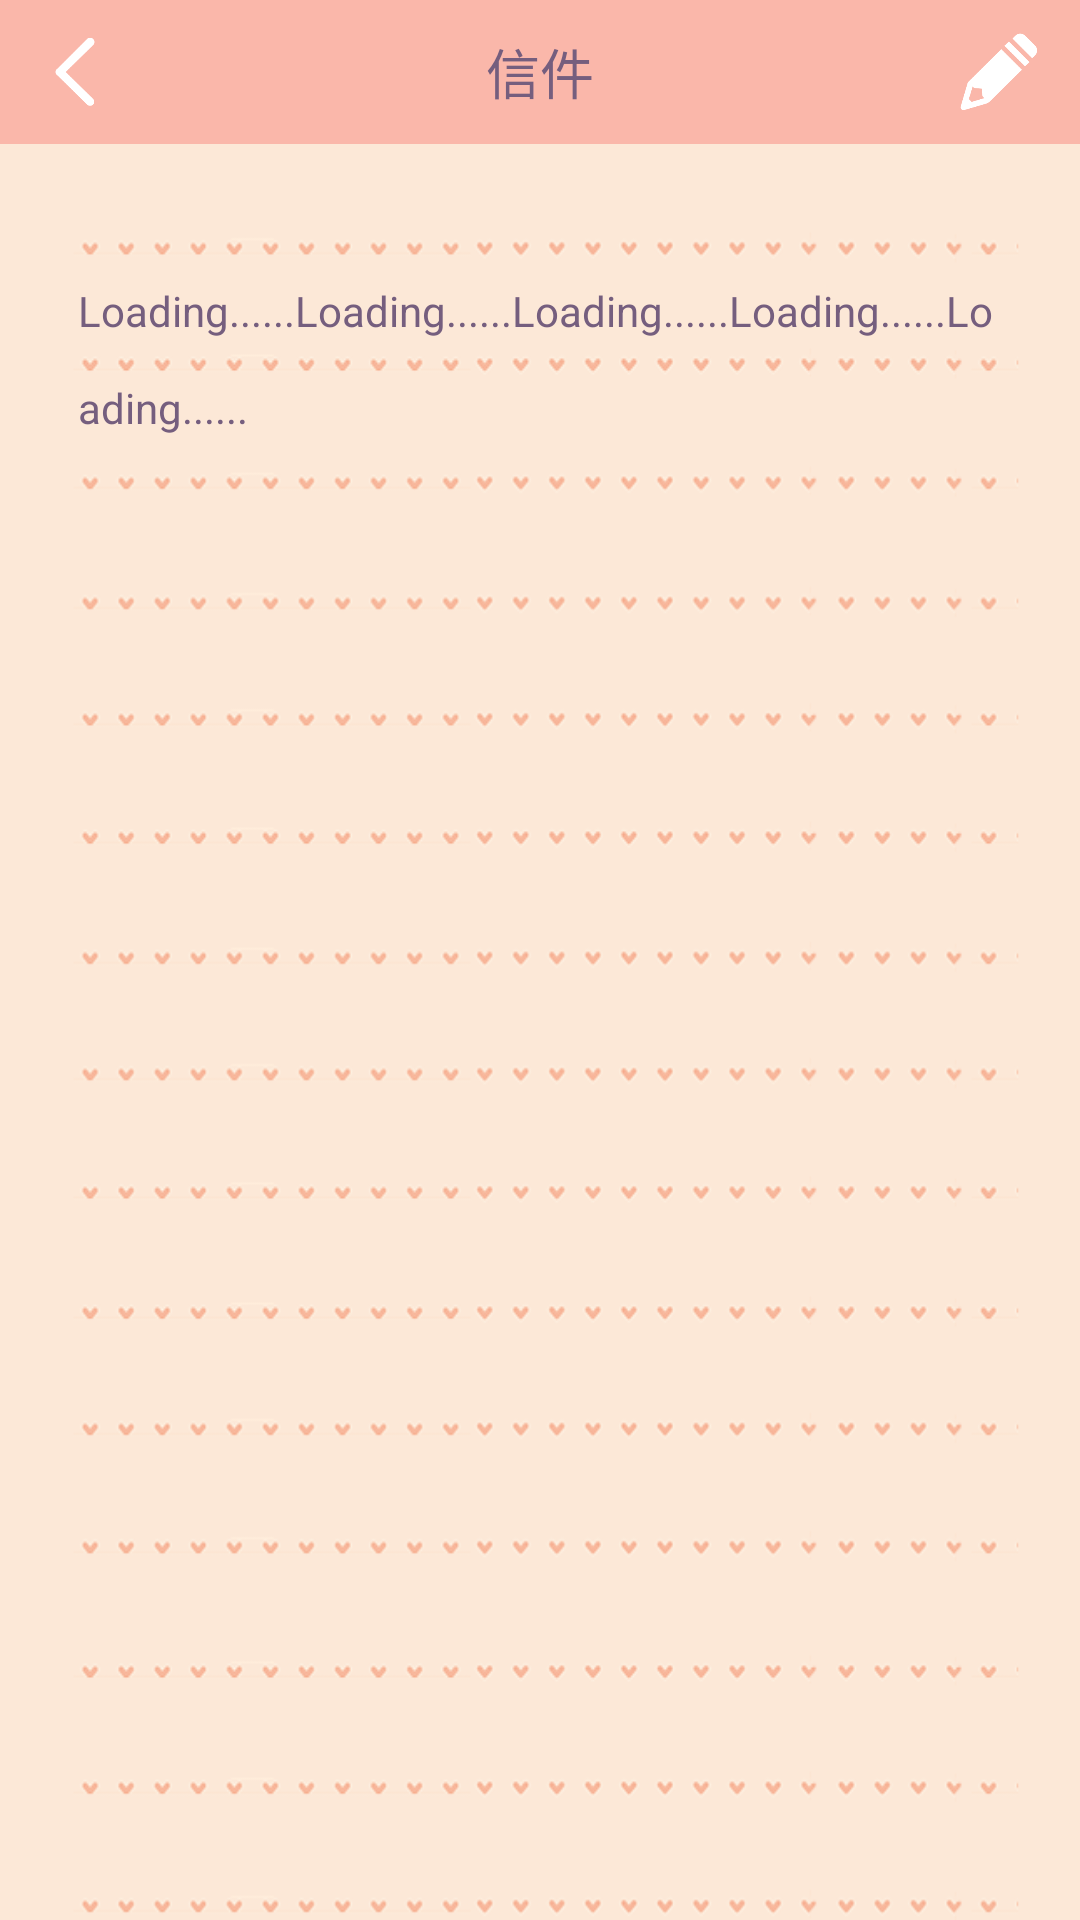

Icons on this 1080 × 1920 Android screen, each with the point to tap as (x=x, y=y):
写信: (x=999, y=71)
返回: (x=75, y=72)
